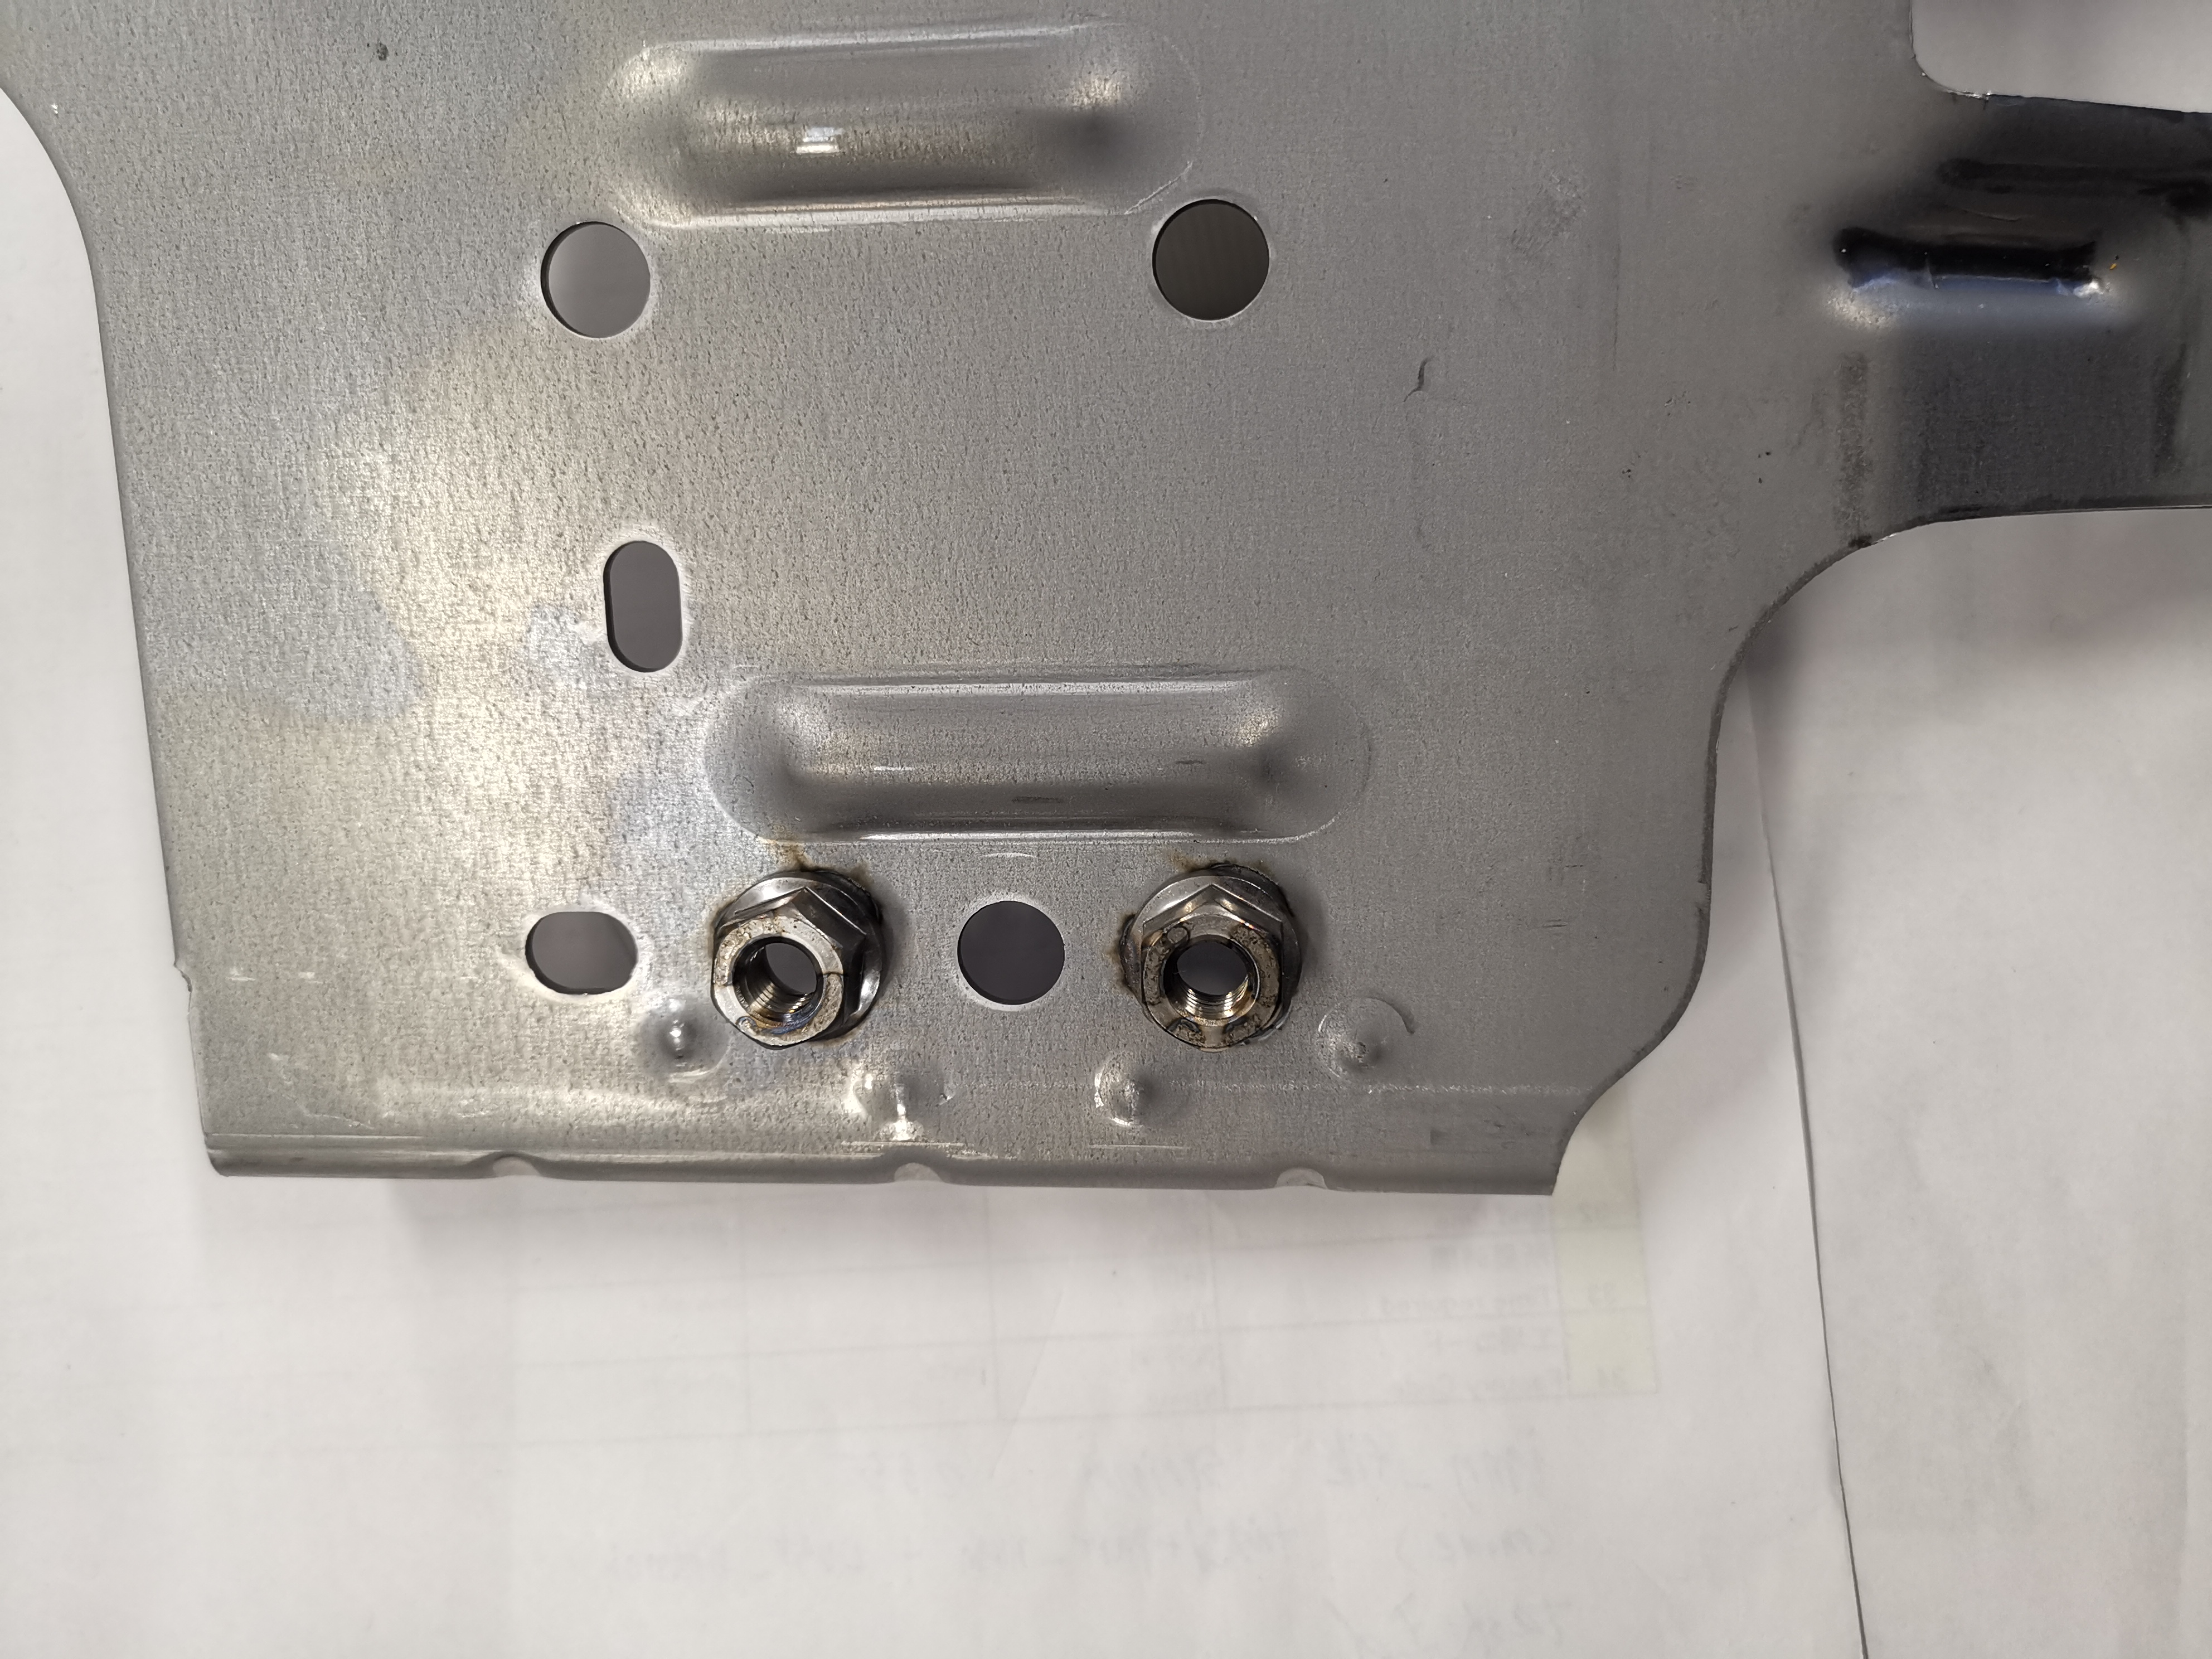dog: (1113, 859, 1310, 1060), (702, 864, 894, 1053)
